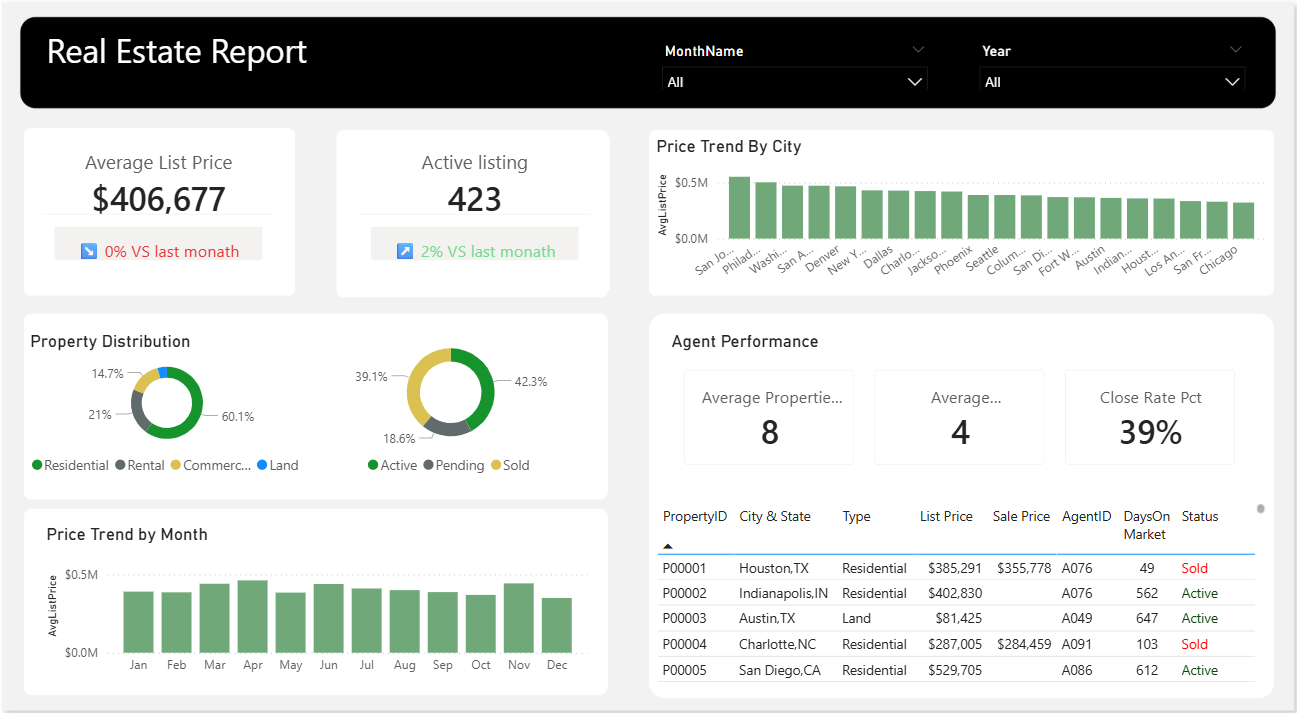

The page's visual inventory and layout, read from the dashboard file:
{"tool":"powerbi","page":{"name":"Page 1","canvas":[1280,720],"ordinal":0},"visuals":[{"type":"textbox","box":[41.7,27,281,77.3],"z":0},{"type":"slicer","fields":{"Values":["Date.MonthName"]},"box":[640.5,40.5,281,51.5],"z":1000},{"type":"slicer","fields":{"Values":["Date.Year"]},"box":[952.2,40.5,281,51.5],"z":2000},{"type":"cardVisual","fields":{"Data":["_Measures.AvgListPrice"]},"box":[25.7,138.6,262.9,150],"z":3000},{"type":"cardVisual","fields":{"Data":["_Measures.Active listing"]},"box":[335.7,138.6,262.9,150],"z":4000},{"type":"donutChart","title":"Property Distribution","fields":{"Y":["_Measures.Total Properties"],"Category":["real_estate.PropertyType"]},"box":[25.7,328.6,278.6,150],"z":5000},{"type":"donutChart","title":"Property Distribution","fields":{"Y":["_Measures.Total Properties"],"Series":["real_estate.Status"]},"box":[304.3,328.6,278.6,150],"z":6000},{"type":"clusteredColumnChart","title":"Price Trend By City","fields":{"Y":["_Measures.AvgListPrice"],"Category":["real_estate.City"]},"box":[640.5,137.4,607.4,150.9],"z":7000},{"type":"cardVisual","title":"Agent Performance","fields":{"Data":["_Measures.AvgPropertiesPerAgent","_Measures.AvgCommissionPct","_Measures.CloseRatePct"]},"box":[655.2,328.8,577.9,149.7],"z":8000},{"type":"tableEx","fields":{"Values":["real_estate.PropertyID","real_estate.City & State","real_estate.PropertyType","real_estate.ListPrice","real_estate.SalePrice","real_estate.AgentID","real_estate.DaysOnMarket","real_estate.Status"]},"box":[640.5,493.3,607.4,191.4],"z":9000},{"type":"lineStackedColumnComboChart","title":"Price Trend by Month","fields":{"Category":["Date.MonthName"],"Y":["_Measures.AvgListPrice"]},"box":[41.7,517.8,541.1,157.1],"z":9001}]}

Visuals, with their boxes in screenshot pixels (x1, y1, x2, y2), scaled from the page's 1280x720 canvas onto the 1297x713 screenshot:
textbox: pyautogui.locateOnScreen(42, 27, 327, 103)
slicer - Date.MonthName: pyautogui.locateOnScreen(649, 40, 934, 91)
slicer - Date.Year: pyautogui.locateOnScreen(965, 40, 1250, 91)
cardVisual - _Measures.AvgListPrice: pyautogui.locateOnScreen(26, 137, 292, 286)
cardVisual - _Measures.Active listing: pyautogui.locateOnScreen(340, 137, 607, 286)
"Property Distribution" donutChart: pyautogui.locateOnScreen(26, 325, 308, 474)
"Property Distribution" donutChart: pyautogui.locateOnScreen(308, 325, 591, 474)
"Price Trend By City" clusteredColumnChart: pyautogui.locateOnScreen(649, 136, 1264, 285)
"Agent Performance" cardVisual: pyautogui.locateOnScreen(664, 326, 1249, 474)
tableEx - real_estate.PropertyID x real_estate.City & State: pyautogui.locateOnScreen(649, 489, 1264, 678)
"Price Trend by Month" lineStackedColumnComboChart: pyautogui.locateOnScreen(42, 513, 591, 668)
